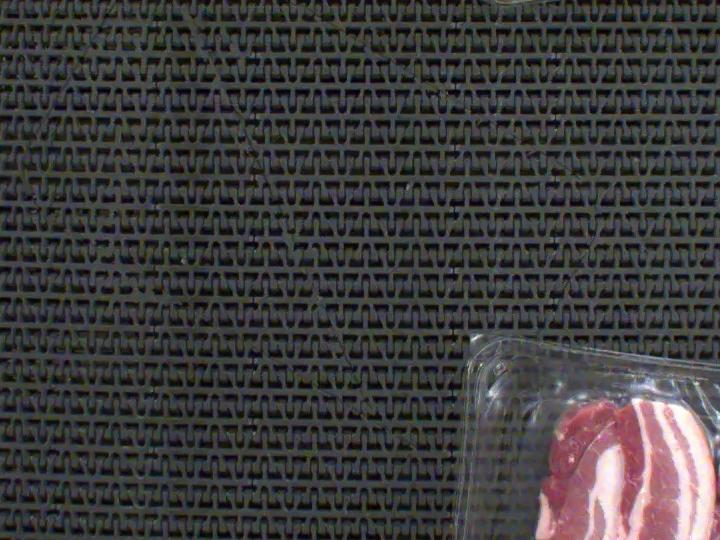unsealed: (487, 350, 720, 540)
